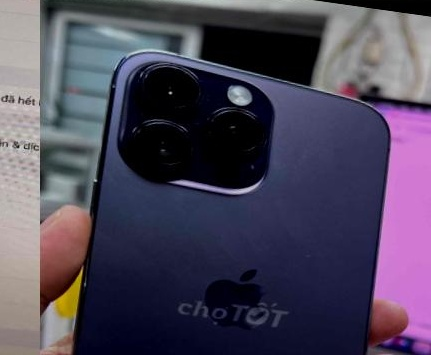scratch: (140, 73, 233, 158), (300, 249, 315, 265)
screen_defect: (0, 77, 40, 236)
